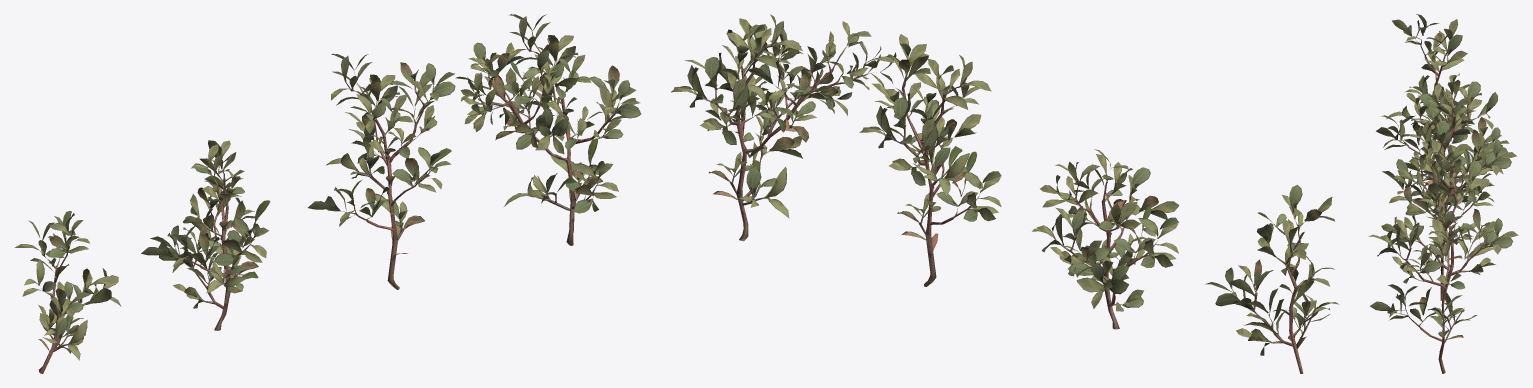
File: shrub_04.glb
3 renders of one model, left to right at view 1: azimuth 30°, elevation 25°; view 2: azimuth 150°, elevation 25°; view 3: azimuth 270°, elevation 25°, orthographic. The views are drawn at different scales.
Parts seen in each view (by area): view 1: shrub_04; view 2: shrub_04; view 3: shrub_04.
Part boxes in pixels (x1,y1,x2,y2): shrub_04: (14, 14, 641, 373); shrub_04: (671, 14, 1339, 373); shrub_04: (1368, 14, 1518, 373).
Bounding box in the file's own units: 0.5837 × 0.2192 × 0.1461.
Materials: 1 (1 with a texture image).
